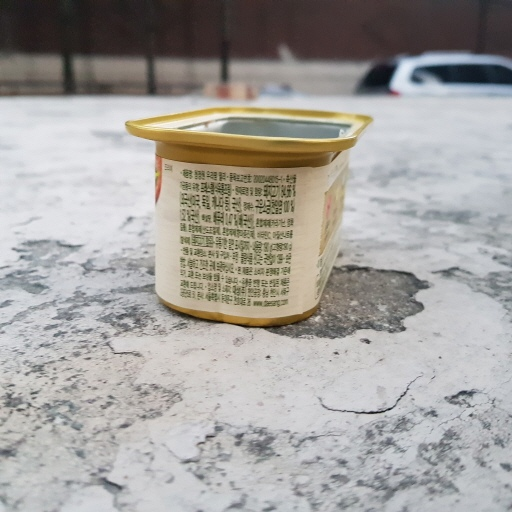Metal_2: (125, 100, 375, 324)
